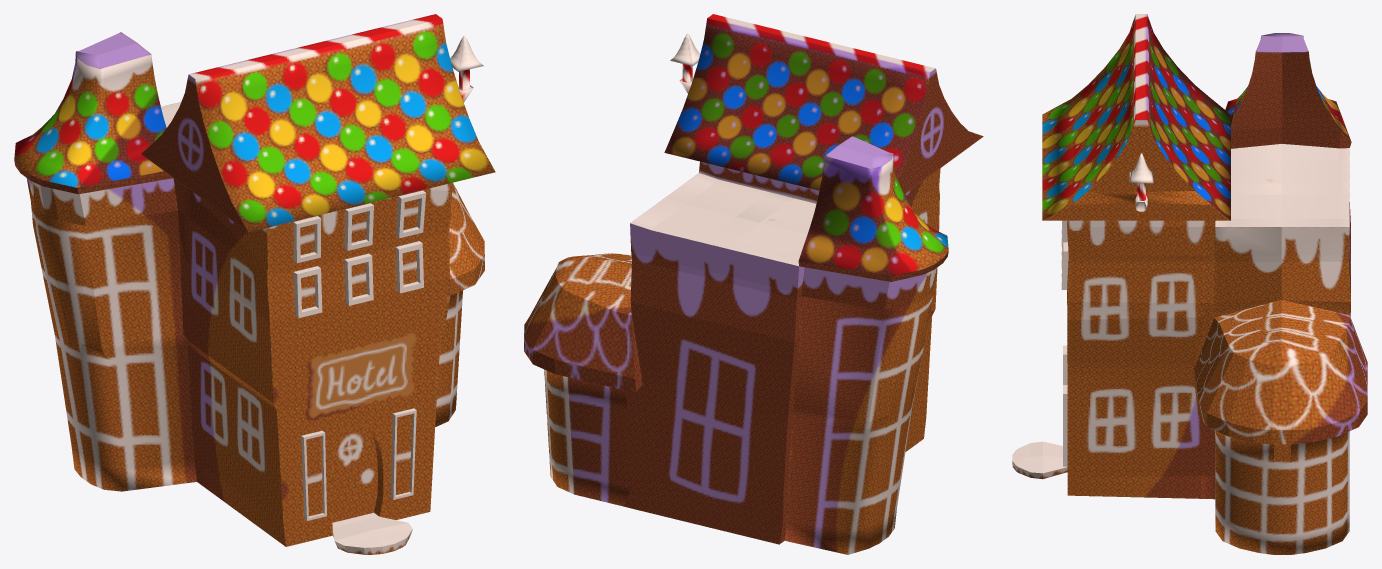
Rendered from hotel.fbx.
3 views of the same model, side by side, from view 1: azimuth 30°, elevation 25°; view 2: azimuth 150°, elevation 25°; view 3: azimuth 270°, elevation 25° (orthographic). The views are drawn at different scales.
Parts seen in each view (by area): view 1: hotel; view 2: hotel; view 3: hotel.
Part boxes in pixels (box(x1,y1,x2,y2)): hotel: box(14, 14, 495, 554); hotel: box(524, 14, 983, 554); hotel: box(1012, 14, 1367, 554).
Bounding box in the file's own units: 616 × 600 × 481.
